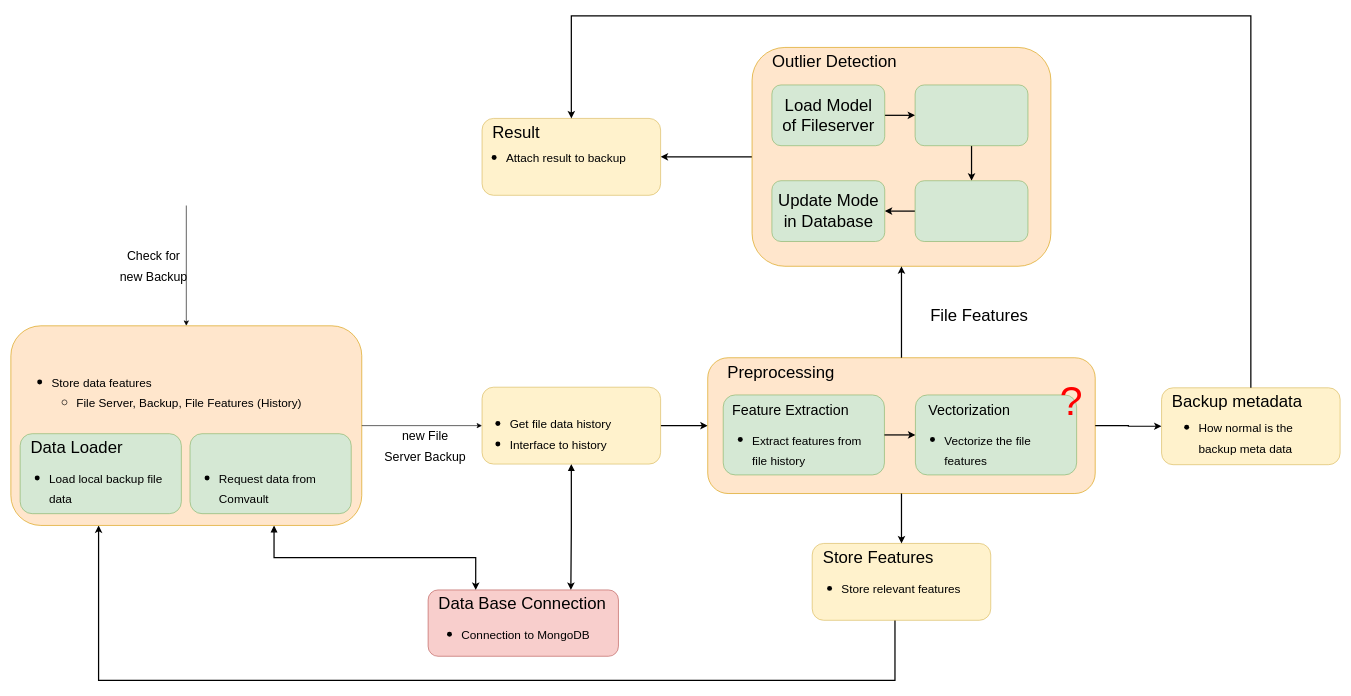
This 1351x696 diagram has some shape labels left out. The box of each missing label's shape, as (x1, y1, x2, y2) in pixels:
Data Manager: (10, 325, 362, 525)
Do Outlier Detection: (914, 84, 1028, 146)
File Database: (481, 387, 661, 464)
Fit on new Data: (914, 180, 1028, 241)
Server: (189, 433, 351, 514)
